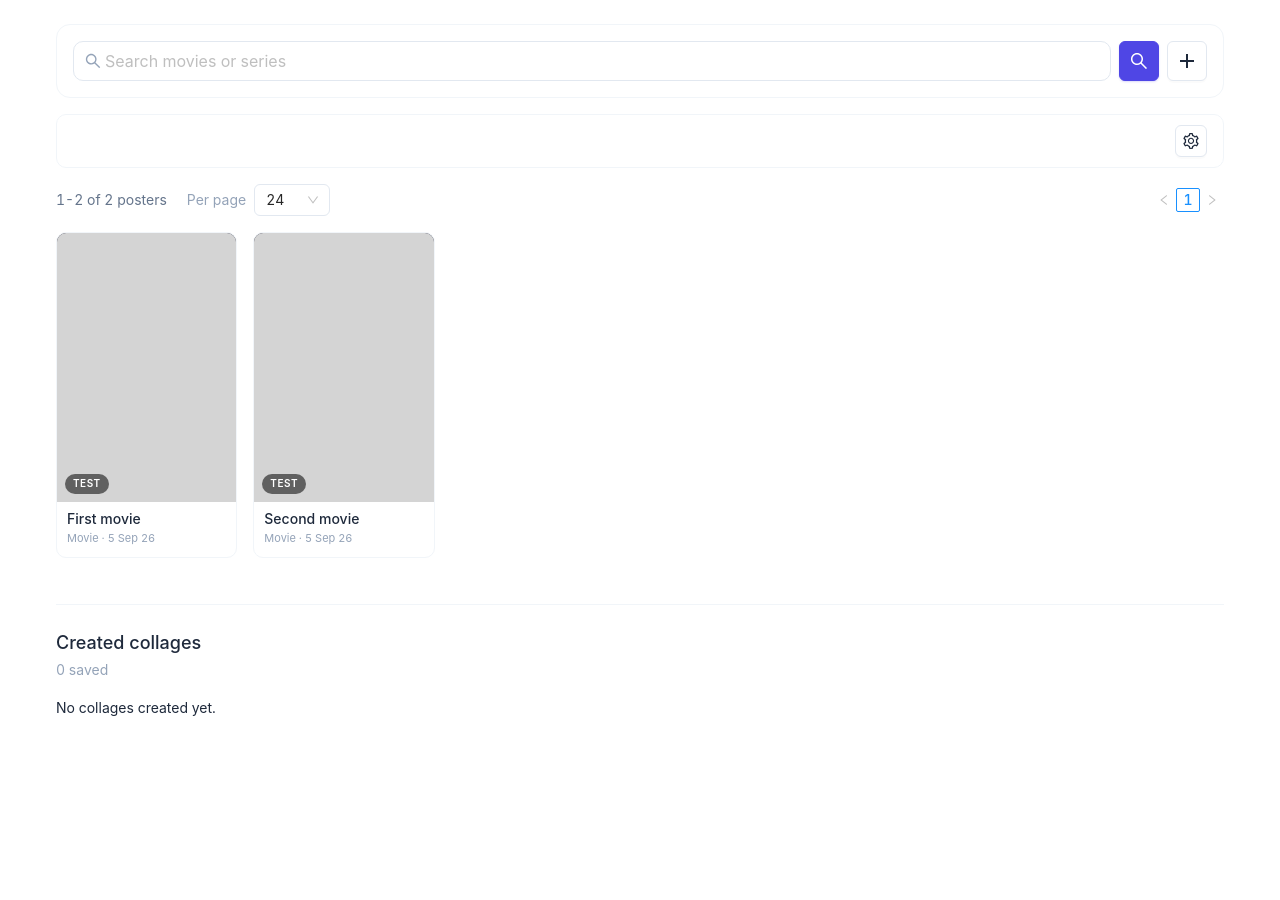
Test: pagination and created collages are visible by default for a single page
The width and height of the screenshot is (1280, 900).
Expected: the text "1-2 of 2 posters" is shown, [56, 189, 167, 211]
Expected: the search field named "Posters per page" is shown, [187, 189, 246, 211]
What coordinates should you click on to do the following:
click the button named "Poster settings"
I would click on:
 (1191, 141)
Its box is [1175, 125, 1207, 157].
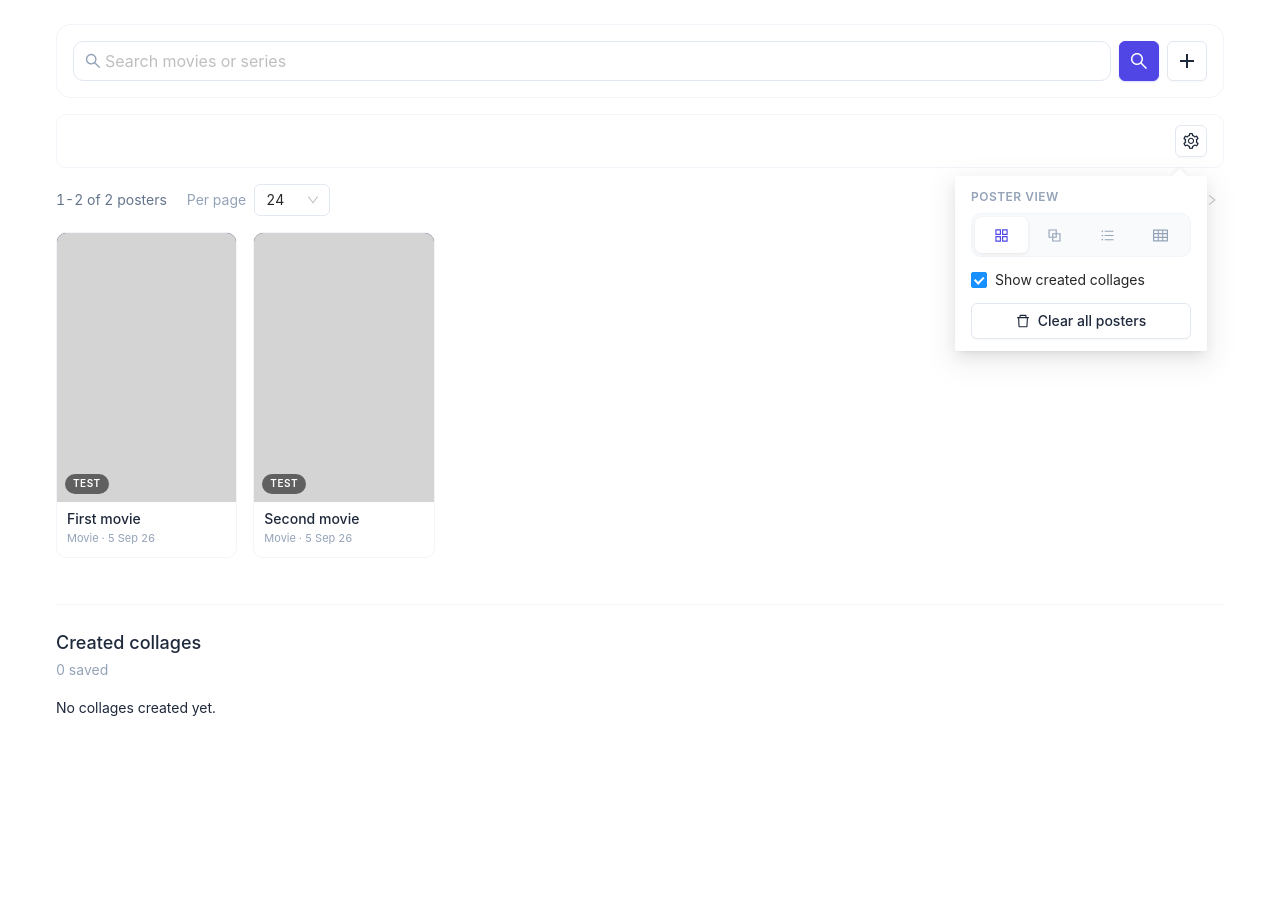
Expected: the text "No collages created yet." is shown, [56, 699, 216, 716]
Now the checkbox labelled "Show created collages" is checked, box [971, 271, 1145, 288]
